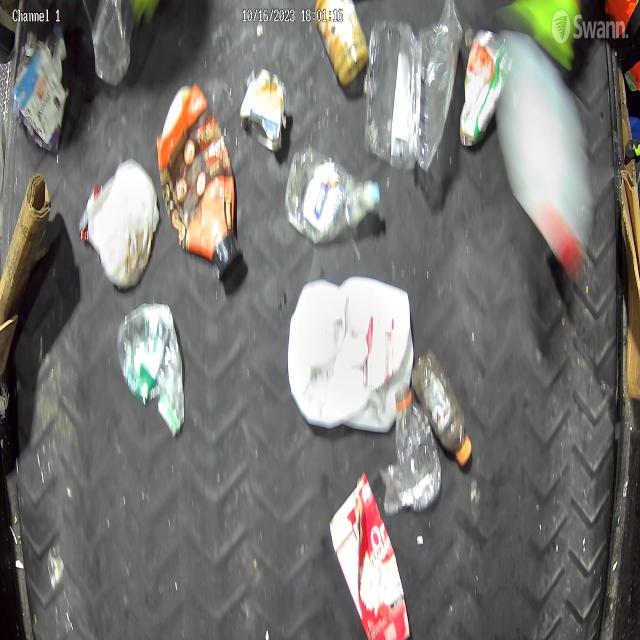can: (240, 67, 287, 153)
milk_jug: (288, 274, 414, 432)
non_white_jug: (156, 83, 243, 284)
plastic_bottle: (365, 0, 463, 175), (116, 300, 187, 434), (286, 146, 380, 244), (412, 349, 472, 468), (394, 385, 442, 514)
